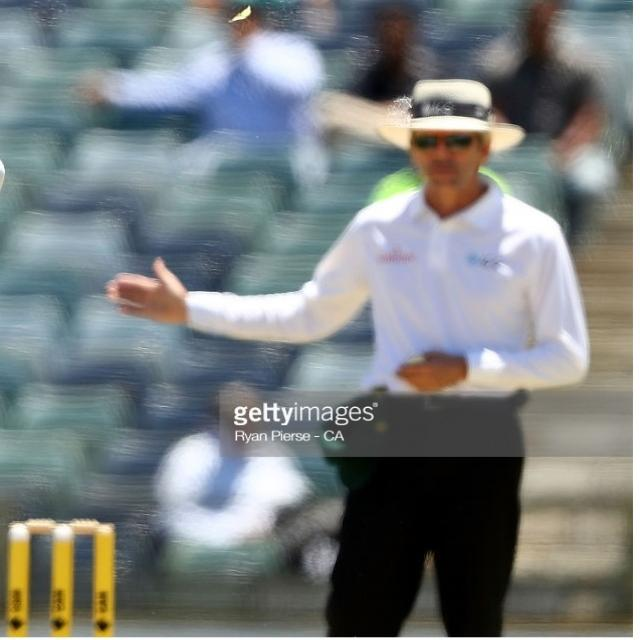No_Ball: (101, 67, 599, 640)
